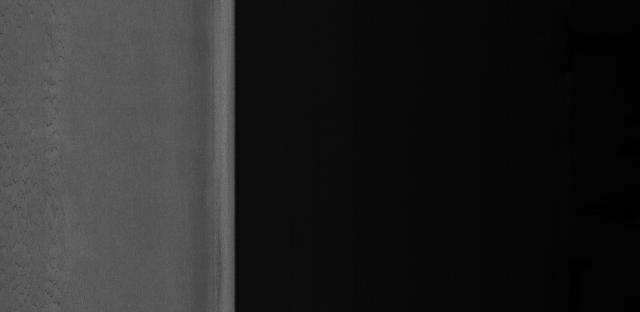silk_spot: (12, 29, 89, 256)
